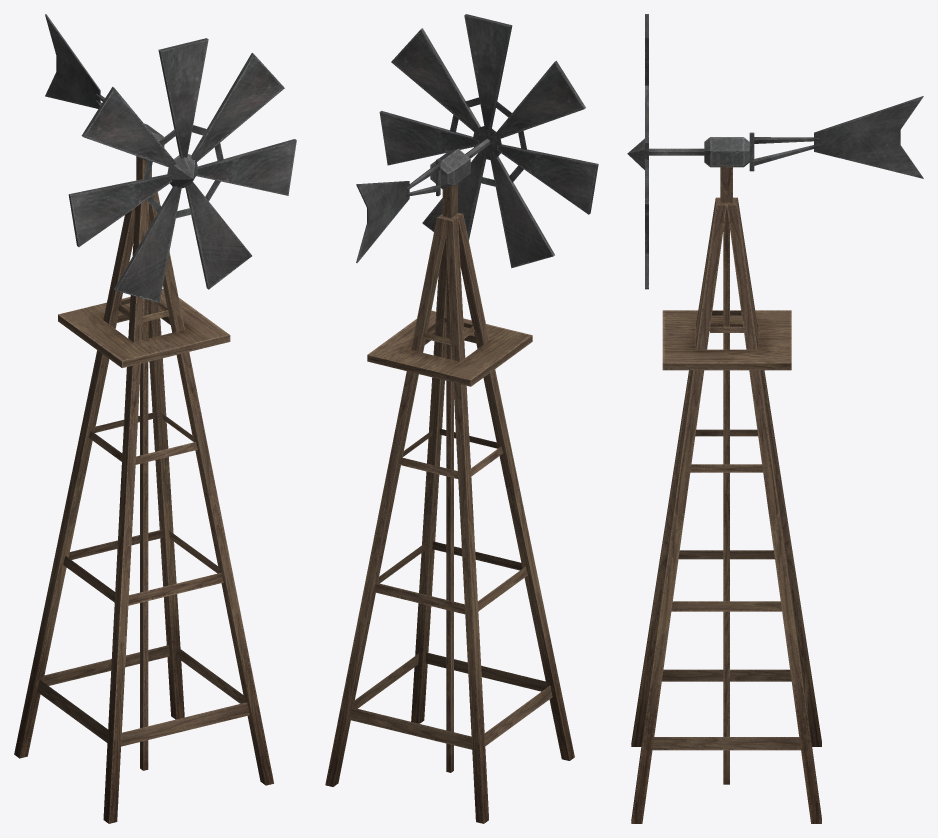
File: Windmill.fbx
3 views of the same model, side by side, from view 1: azimuth 30°, elevation 25°; view 2: azimuth 150°, elevation 25°; view 3: azimuth 270°, elevation 25° (orthographic). The views are drawn at different scales.
Parts seen in each view (by area): view 1: Windmill; view 2: Windmill; view 3: Windmill.
Boxes of the visible parts, box(x1,y1,x2,y2) form: Windmill: box(14, 14, 296, 823); Windmill: box(325, 14, 598, 823); Windmill: box(627, 14, 923, 823).
Bounding box in the file's own units: 368 × 1171 × 416.
